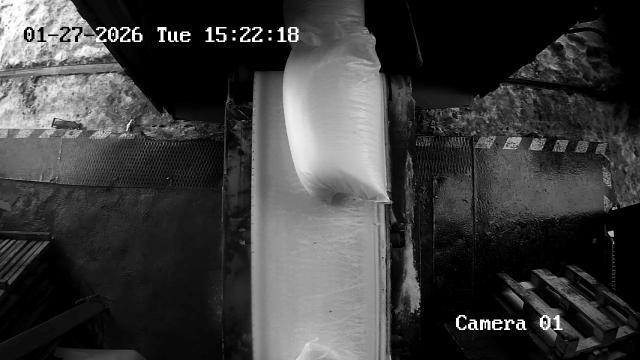bag: (282, 31, 390, 204), (284, 0, 366, 50)
